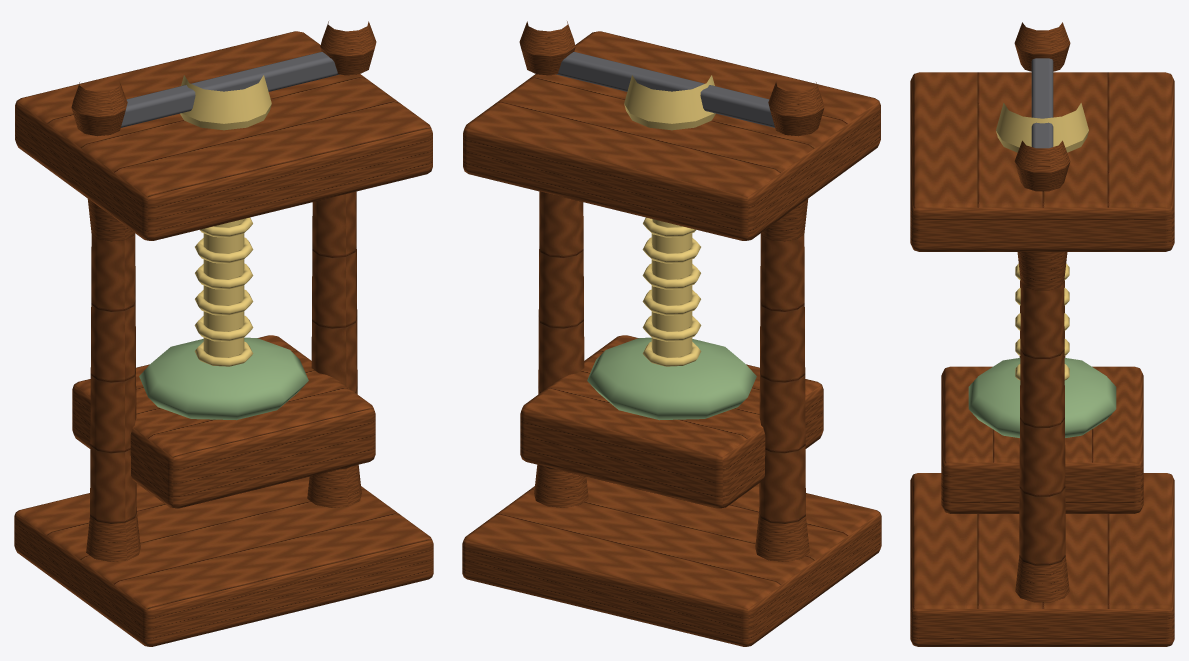
Rendered from witch-cottage-and-apothecary-herb-press-d1e57238__32468.glb.
3 renders of one model, left to right at view 1: azimuth 30°, elevation 25°; view 2: azimuth 150°, elevation 25°; view 3: azimuth 270°, elevation 25°, orthographic. The views are drawn at different scales.
Parts seen in each view (by area): view 1: herb-press; view 2: herb-press; view 3: herb-press.
Part boxes in pixels (box(x1,y1,x2,y2)): herb-press: box(14, 21, 433, 646); herb-press: box(462, 21, 881, 646); herb-press: box(910, 22, 1174, 646).
Bounding box in the file's own units: 0.4285 × 0.71 × 0.34.
Materials: 4 (1 with a texture image).
